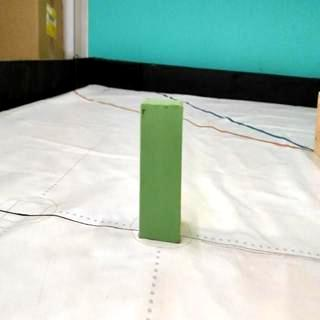greenbox: (140, 99, 182, 244)
